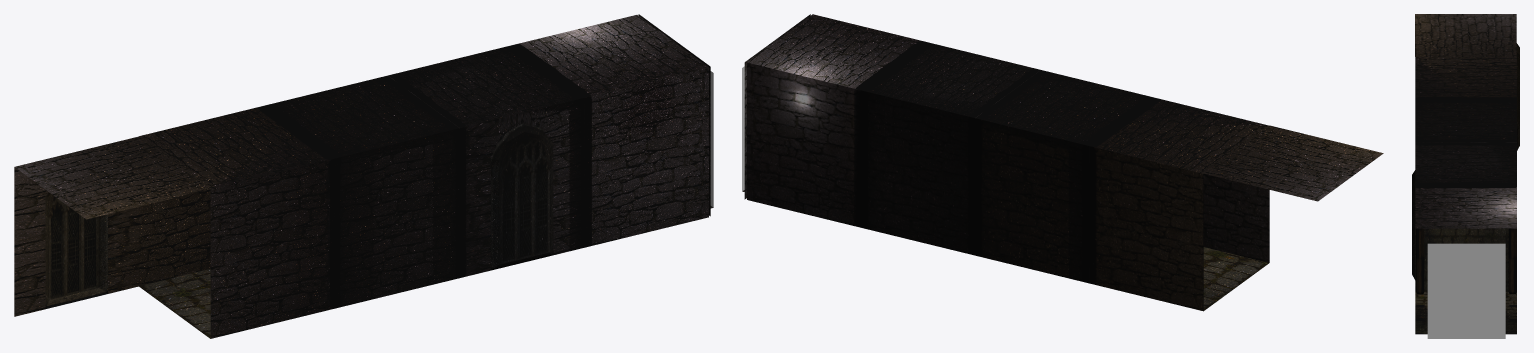
File: corredor3.fbx
3 views of the same model, side by side, from view 1: azimuth 30°, elevation 25°; view 2: azimuth 150°, elevation 25°; view 3: azimuth 270°, elevation 25° (orthographic). The views are drawn at different scales.
Parts seen in each view (by area): view 1: wall01.014, teto01.003, floor01.001; view 2: wall01.014, teto01.003, floor01.001; view 3: teto01.003, wall01.014, floor01.001, cilindro01.024.
Part boxes in pixels (left/top/right/bottom): wall01.014: left=14, top=14, right=713, bottom=338; teto01.003: left=15, top=15, right=708, bottom=219; floor01.001: left=139, top=269, right=210, bottom=338; wall01.014: left=742, top=14, right=1269, bottom=311; teto01.003: left=747, top=14, right=1383, bottom=201; floor01.001: left=1203, top=247, right=1268, bottom=310; teto01.003: left=1415, top=14, right=1516, bottom=228; wall01.014: left=1412, top=43, right=1519, bottom=338; floor01.001: left=1415, top=228, right=1516, bottom=334; cilindro01.024: left=1416, top=228, right=1516, bottom=293.
Bounding box in the file's own units: 1021 × 230 × 212.
